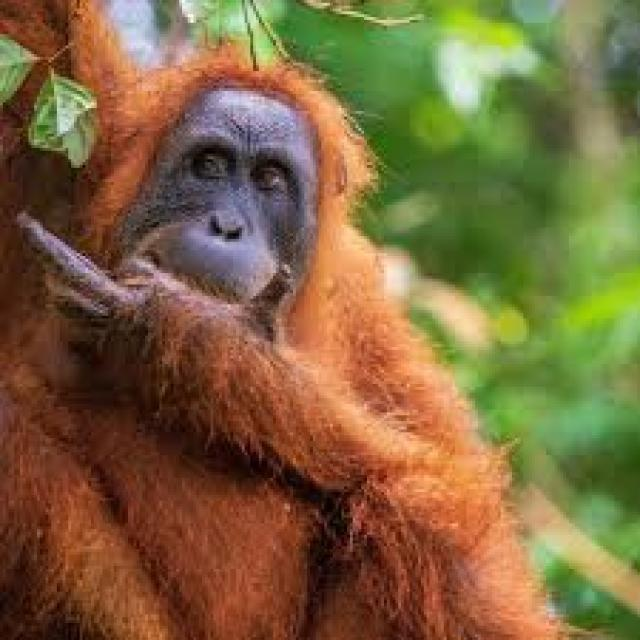Orangutan: (0, 45, 543, 640)
